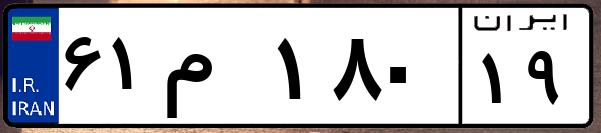0: (385, 28, 445, 110)
1: (270, 28, 330, 110), (475, 38, 525, 113), (110, 28, 158, 98)
6: (57, 26, 110, 100)
8: (330, 28, 385, 110)
9: (525, 38, 570, 115)
م: (158, 20, 270, 120)
